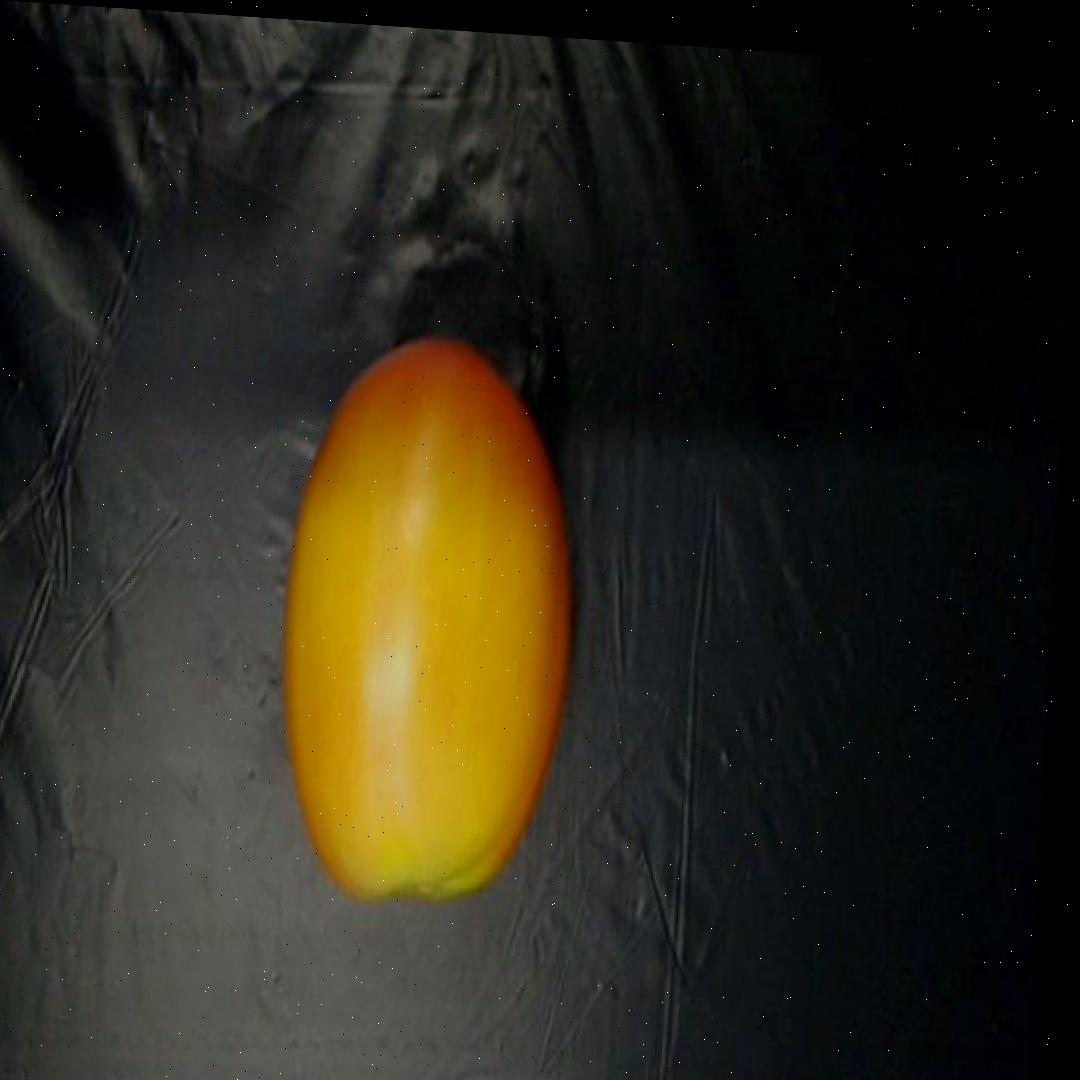setengah_matang: (265, 320, 585, 918)
